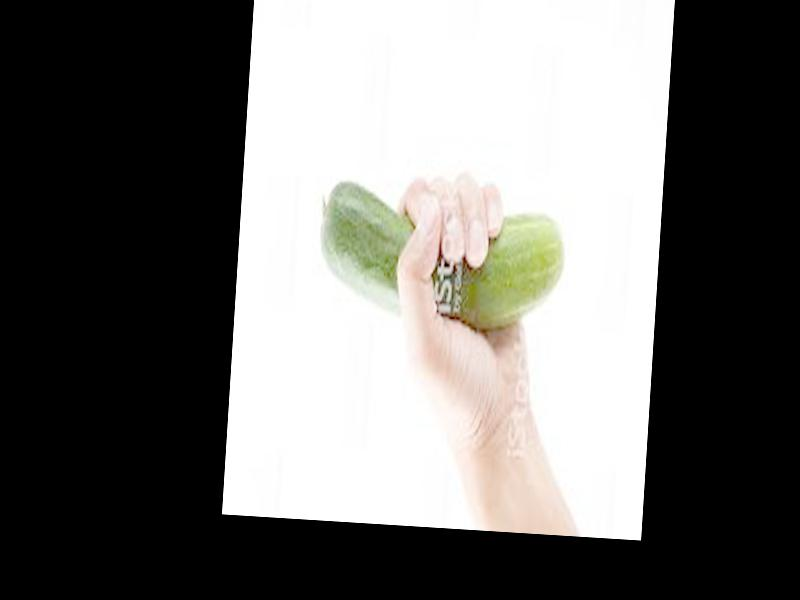Cucumber: (315, 177, 566, 335)
